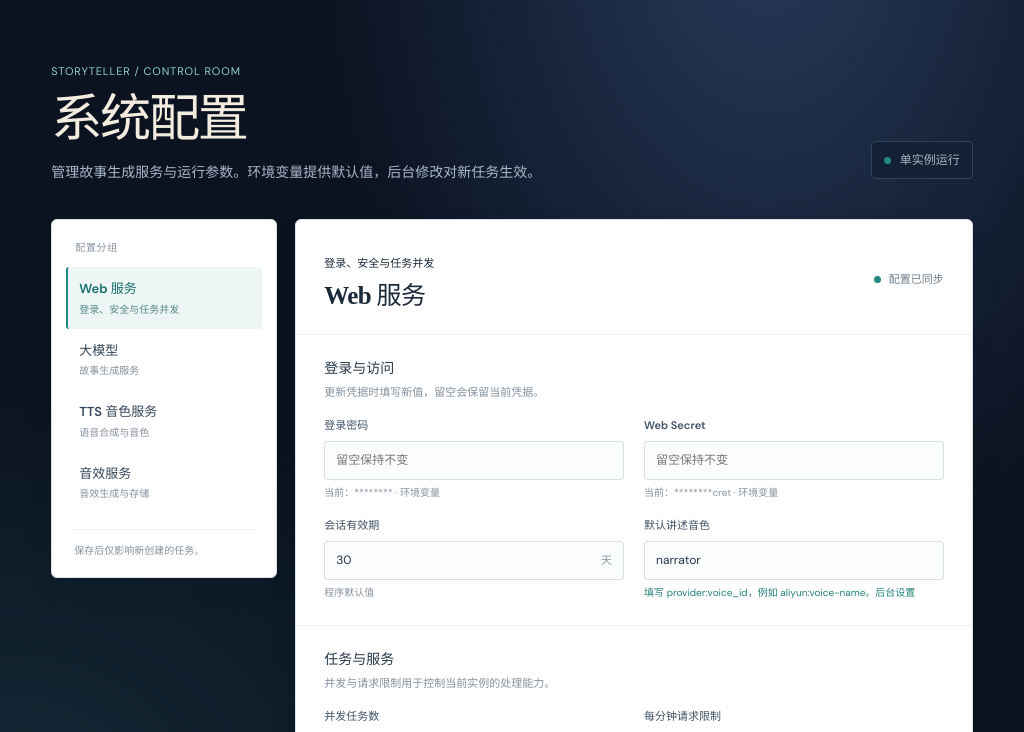
Test case: SettingsView › filters the candidate pool by keyword
Click the button with test id "settings-nav-llm".
click(164, 359)  # box [66, 329, 262, 390]
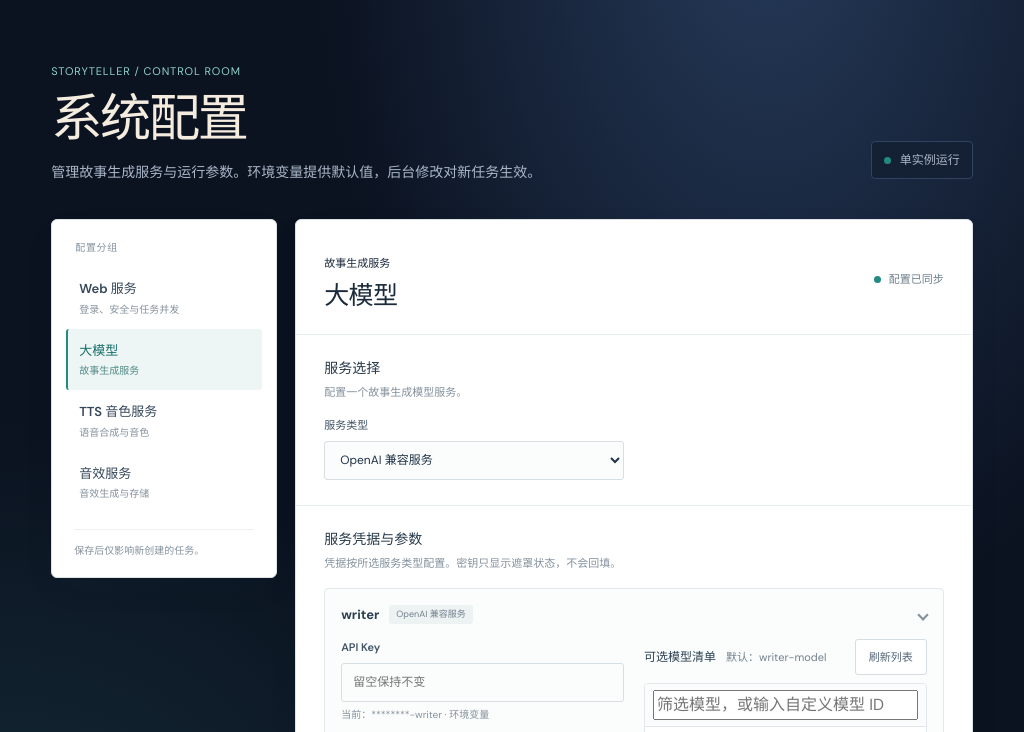
Type "model-2" into the search field with placeholder "筛选模型，或输入自定义模型 ID".
click(785, 705); type("model-2")  # box [653, 690, 918, 720]
(page scrolled)
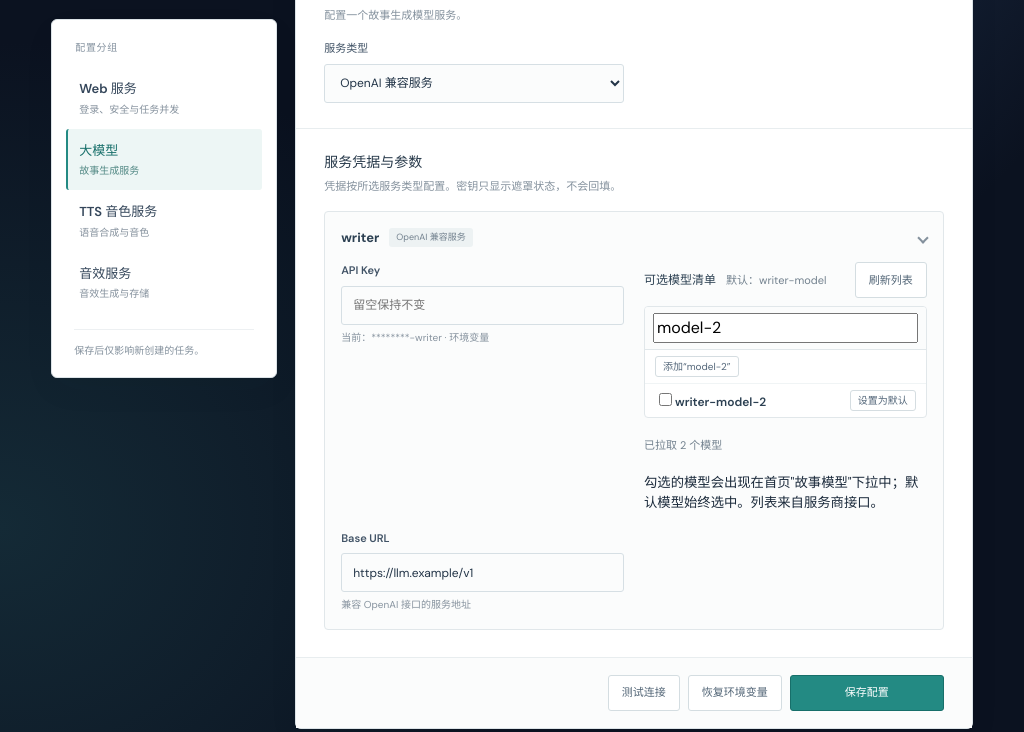
Expected: the list item "writer-model-2 设置为默认" is shown, [645, 384, 926, 417]
Expected: the list with test id "candidate-list-llm-writer" shows "添加“model-2”", [655, 356, 738, 377]
